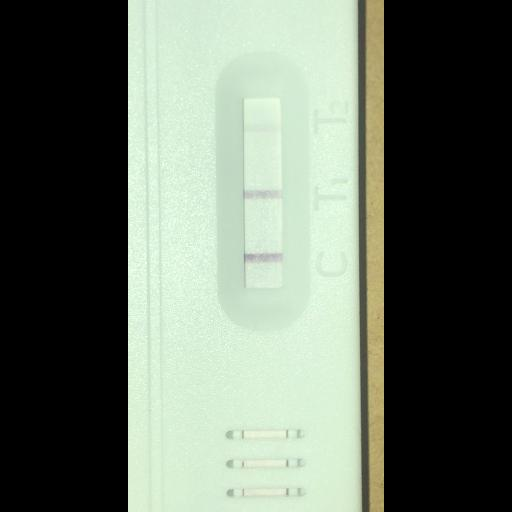Pos: (128, 5, 358, 511)
